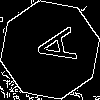A: (25, 25, 77, 69)
